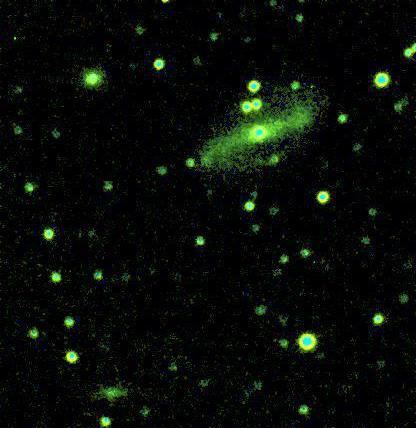star: (0, 25, 30, 55)
